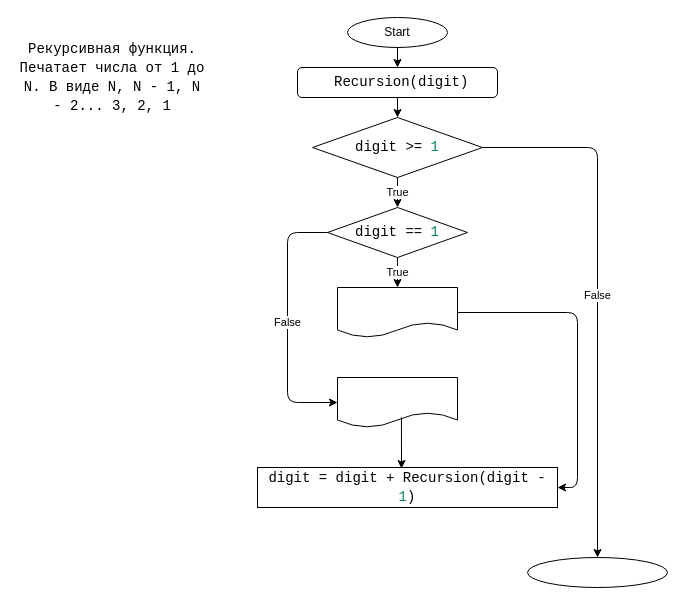
Image size: 685x605. Some labels were removed from this diagram. Here are the shapes that lost their labels. From the top down, the centre of each, then its label:
(397,312): Output: digit
(397,402): Output: Digit + ", "
(597,572): End
